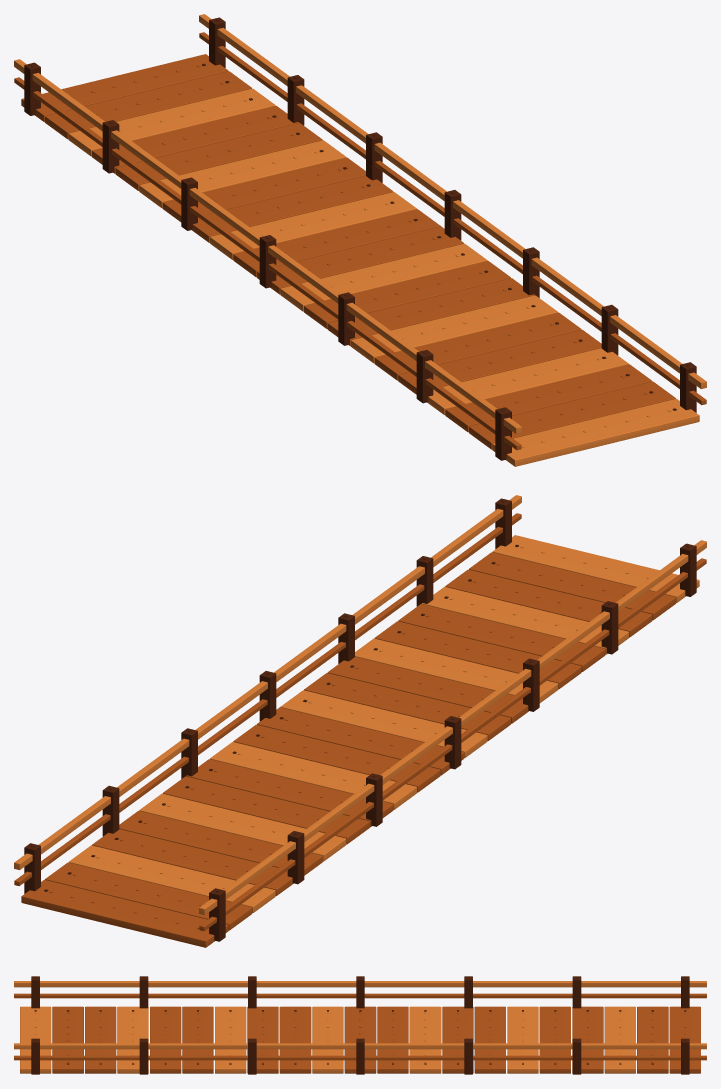
Rendered from BrickBridge.glb.
3 renders of one model, top to bottom at view 1: azimuth 30°, elevation 25°; view 2: azimuth 150°, elevation 25°; view 3: azimuth 270°, elevation 25°, orthographic. The views are drawn at different scales.
Parts seen in each view (by area): view 1: BrickBridge; view 2: BrickBridge; view 3: BrickBridge.
Boxes of the visible parts, box(x1,y1,x2,y2) form: BrickBridge: box(14, 14, 706, 466); BrickBridge: box(14, 495, 706, 947); BrickBridge: box(14, 976, 706, 1074).
Size of the model in its own units: 14.4 by 3.45 by 64.
1 material, 1 textured.
